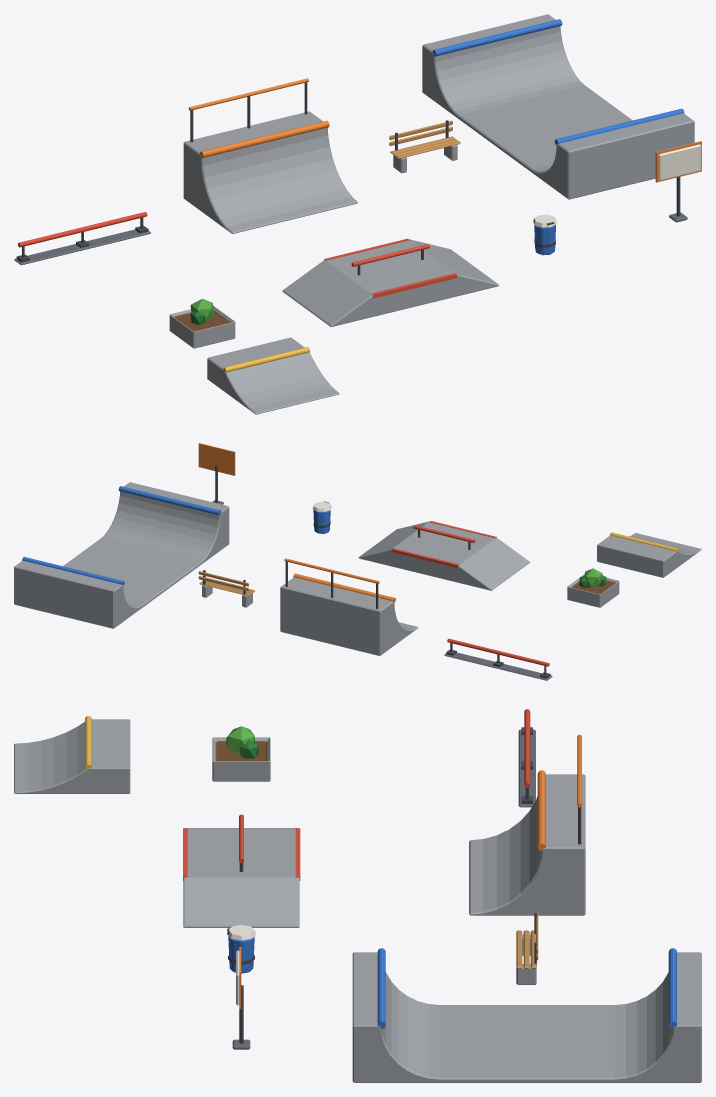
File: low-poly-skate-park.glb
3 renders of one model, top to bottom at view 1: azimuth 30°, elevation 25°; view 2: azimuth 150°, elevation 25°; view 3: azimuth 270°, elevation 25°, orthographic. The views are drawn at different scales.
Visible parts, largest first — view 1: HalfPipe, QuarterPipe, FunBox, Kicker, Planter, Sign_Board, GrindRail, HalfPipe_Coping, QuarterPipe_Coping, HalfPipe_Coping.001, GrindRail_Bar; view 2: HalfPipe, QuarterPipe, FunBox, Kicker, Planter, Sign_Frame, GrindRail, HalfPipe_Coping.001, HalfPipe_Coping, GrindRail_Bar, QuarterPipe_Coping; view 3: HalfPipe, QuarterPipe, FunBox, Kicker, Planter, GrindRail, HalfPipe_Coping.001, QuarterPipe_Coping, HalfPipe_Coping, Bin.
Part boxes in pixels (<box>): HalfPipe: <box>422,14,694,199</box>; QuarterPipe: <box>183,111,357,233</box>; FunBox: <box>282,239,499,326</box>; Kicker: <box>207,337,339,414</box>; Planter: <box>169,306,235,348</box>; Sign_Board: <box>658,144,701,180</box>; GrindRail: <box>14,229,150,265</box>; HalfPipe_Coping: <box>432,19,562,56</box>; QuarterPipe_Coping: <box>200,121,329,157</box>; HalfPipe_Coping.001: <box>554,108,684,145</box>; GrindRail_Bar: <box>18,212,147,247</box>; HalfPipe: <box>14,482,229,628</box>; QuarterPipe: <box>280,577,418,655</box>; FunBox: <box>358,521,529,590</box>; Kicker: <box>597,533,701,577</box>; Planter: <box>567,574,619,607</box>; Sign_Frame: <box>198,443,235,475</box>; GrindRail: <box>444,652,552,680</box>; HalfPipe_Coping.001: <box>118,486,221,515</box>; HalfPipe_Coping: <box>22,557,124,585</box>; GrindRail_Bar: <box>447,638,549,666</box>; QuarterPipe_Coping: <box>293,573,395,602</box>; HalfPipe: <box>352,952,701,1082</box>; QuarterPipe: <box>469,774,585,915</box>; FunBox: <box>183,828,299,927</box>; Kicker: <box>14,719,130,793</box>; Planter: <box>212,737,270,781</box>; GrindRail: <box>518,729,535,807</box>; HalfPipe_Coping.001: <box>377,948,385,1028</box>; QuarterPipe_Coping: <box>537,770,545,850</box>; HalfPipe_Coping: <box>668,948,676,1028</box>; Bin: <box>228,936,254,973</box>.
Bounding box in the file's own units: 57.2 × 8.36 × 47.26.
